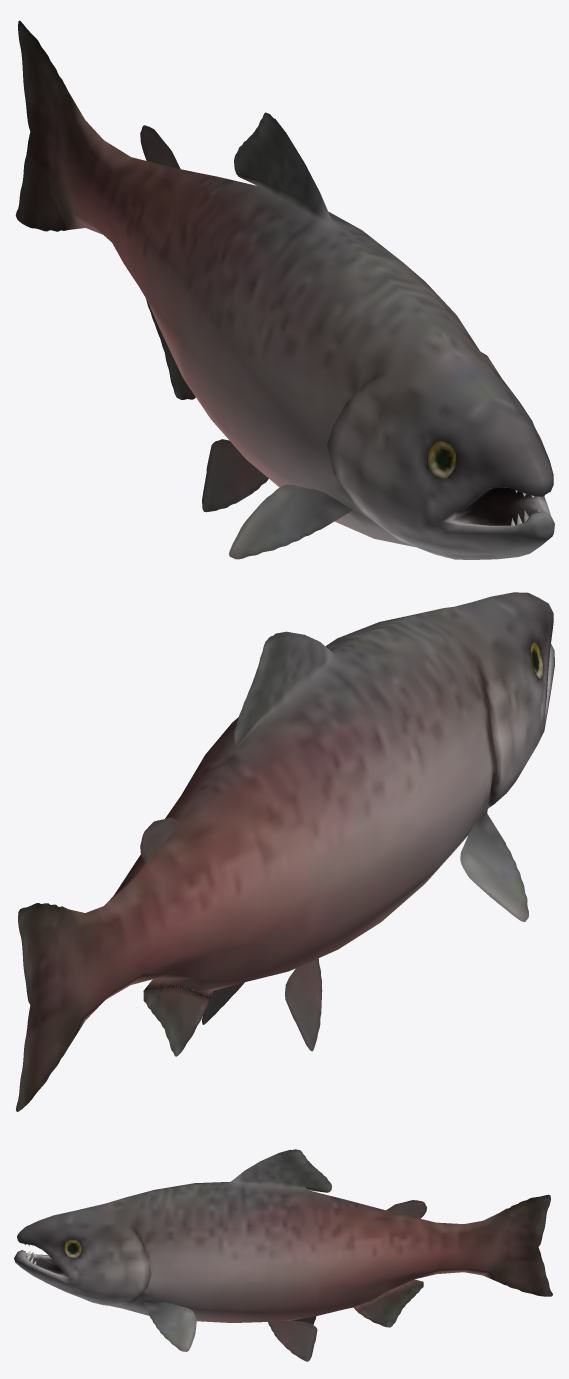
The model's file is king-salmon.glb.
The picture shows the model from 3 angles, top to bottom: view 1: azimuth 30°, elevation 25°; view 2: azimuth 150°, elevation 25°; view 3: azimuth 270°, elevation 25°; orthographic projection. The views are drawn at different scales.
Size of the model in its own units: 4.27 by 5.35 by 12.91.
1 material, 1 textured.
